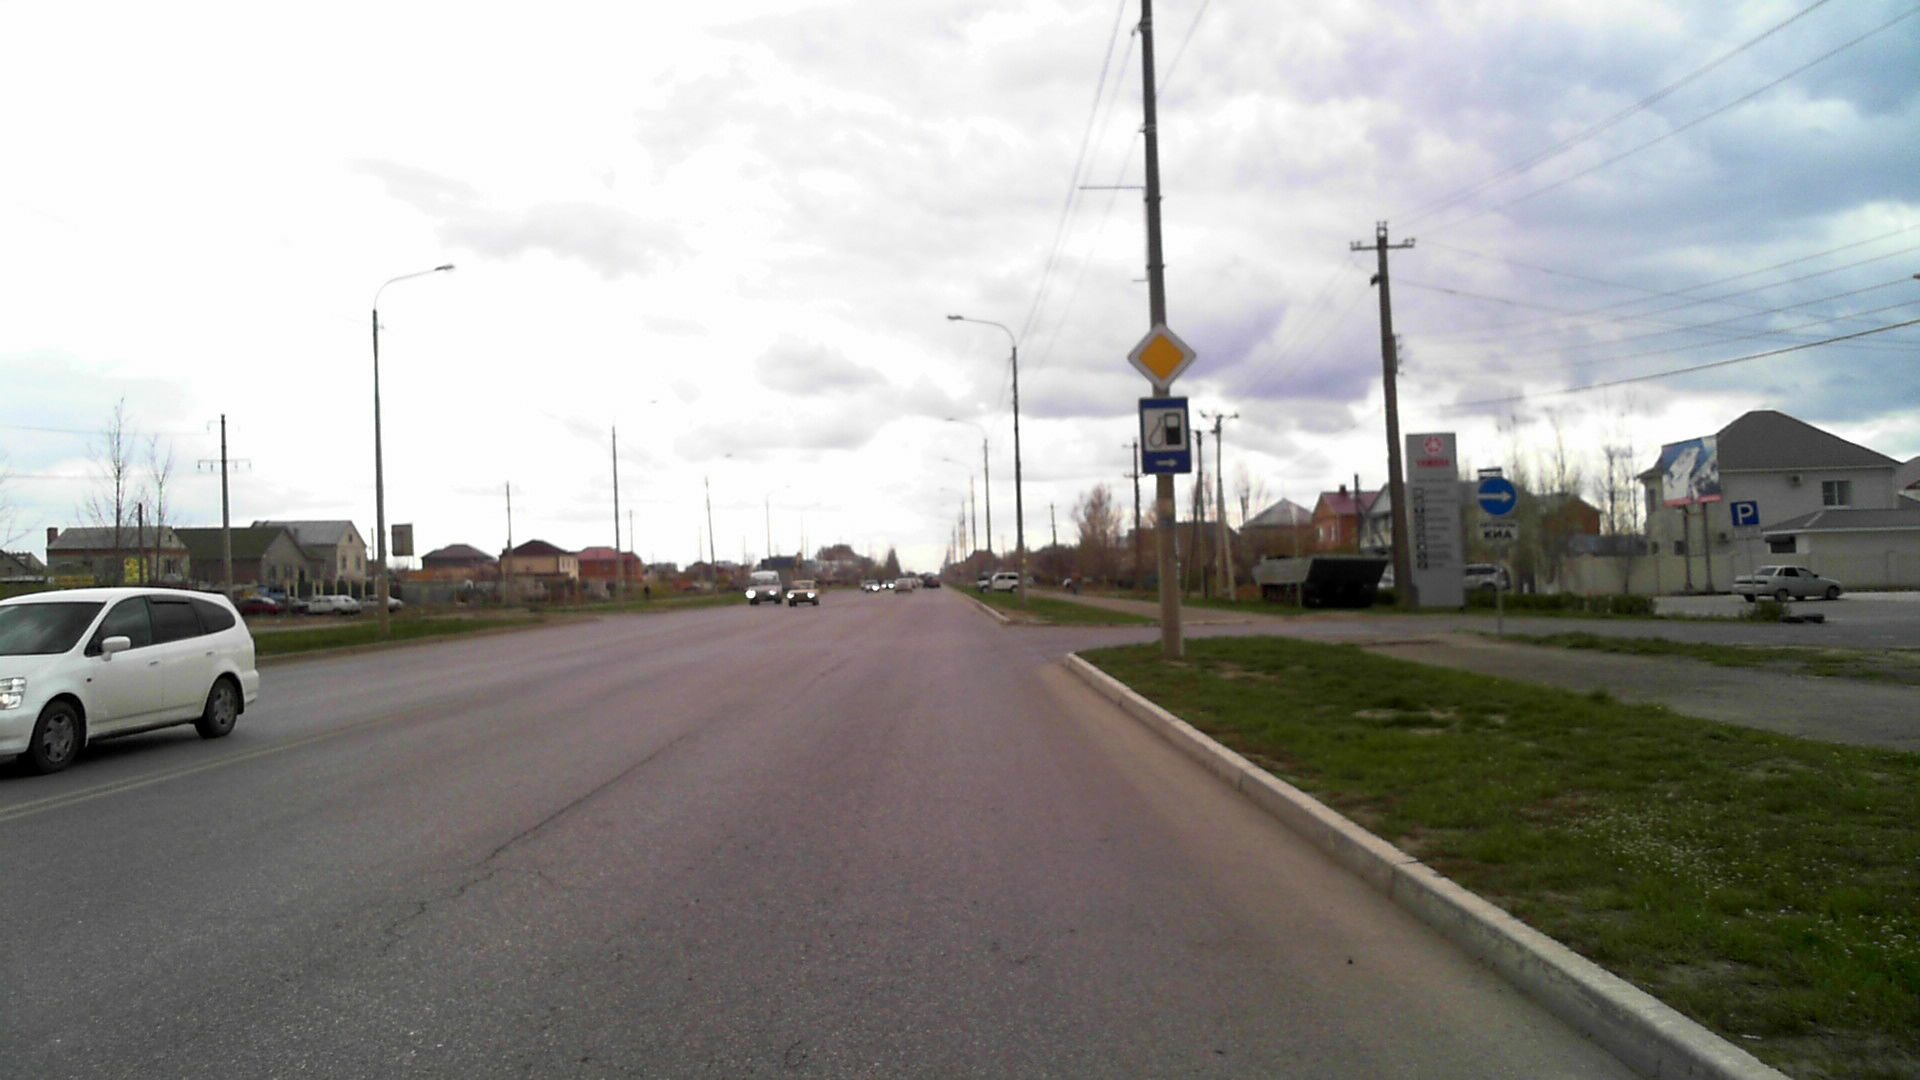Turn Right: (1477, 477, 1518, 516)
